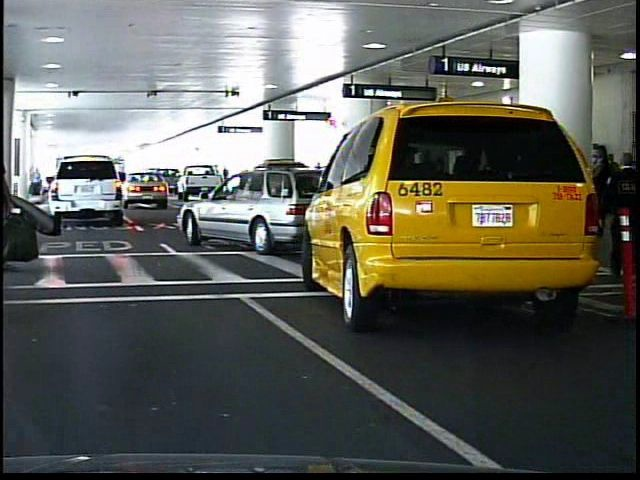person: (582, 141, 619, 280)
